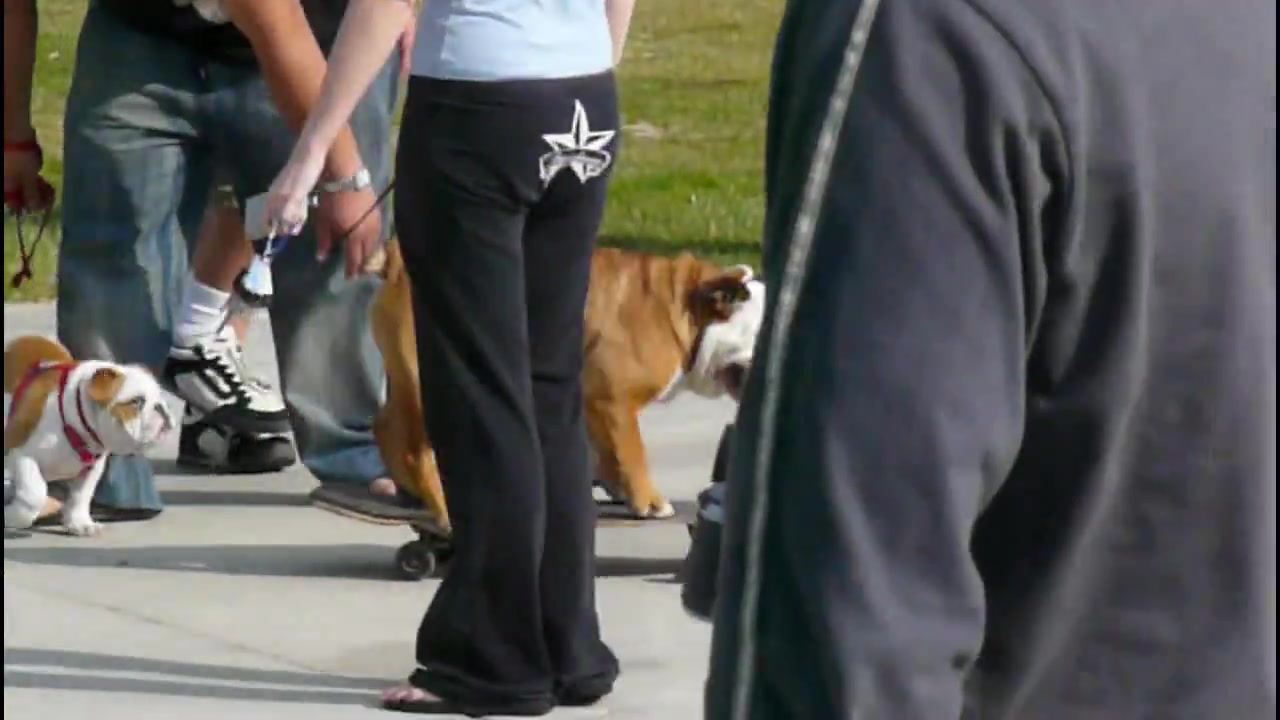dog: (3, 329, 174, 538)
